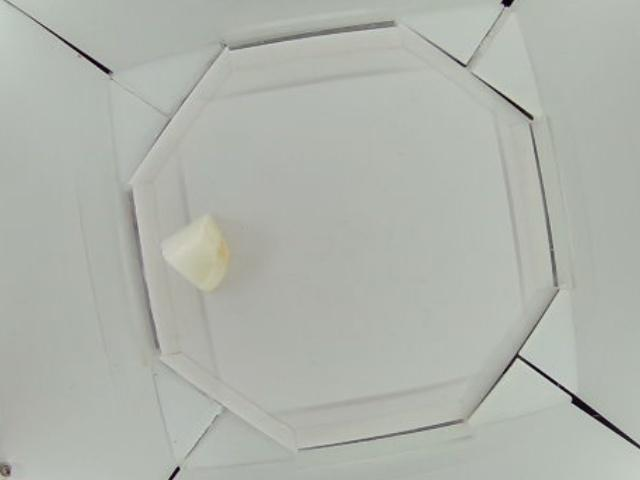Mooli: (163, 215, 231, 294)
